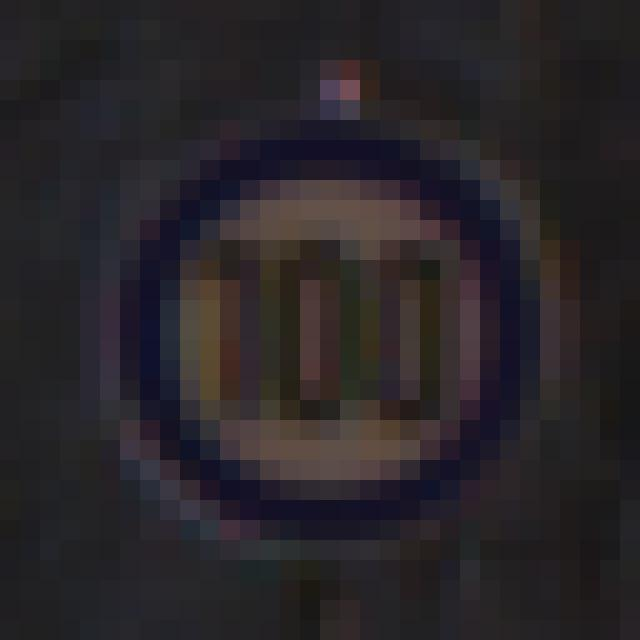SPEED LIMIT 100: (100, 109, 546, 555)
